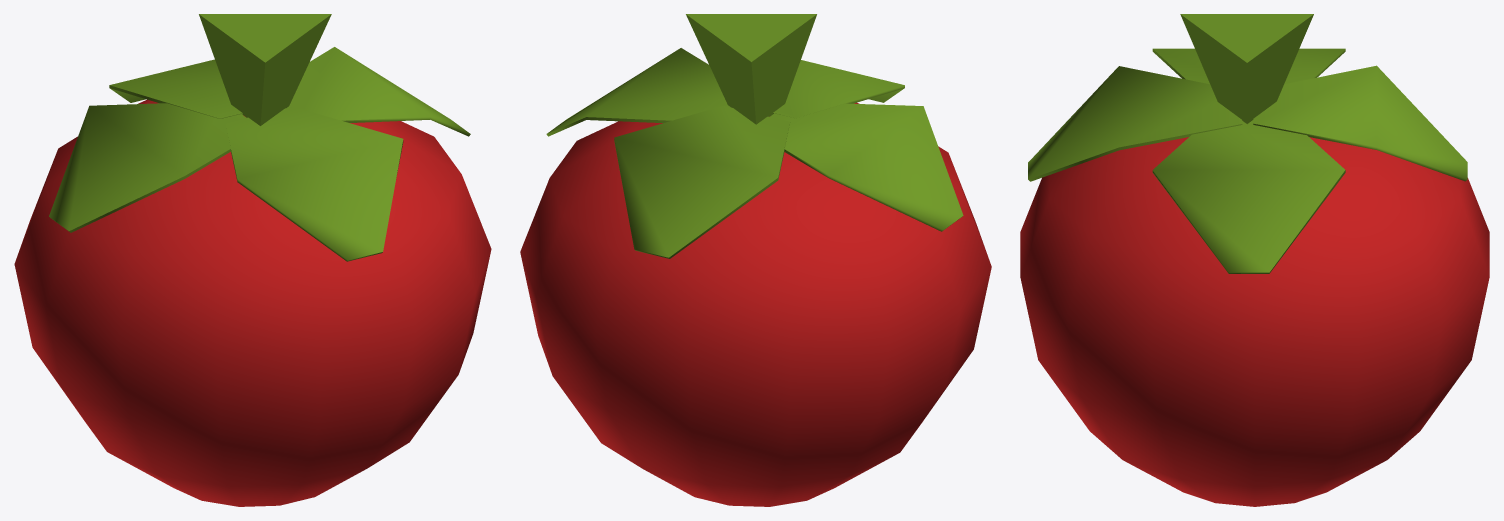
Rendered from tomate.fbx.
The picture shows the model from 3 angles, left to right: view 1: azimuth 30°, elevation 25°; view 2: azimuth 150°, elevation 25°; view 3: azimuth 270°, elevation 25°; orthographic projection.
Visible parts, largest first — view 1: tomate, staengel; view 2: tomate, staengel; view 3: tomate, staengel.
Boxes of the visible parts, x1,y1,x2,y2 form: tomate: [14, 99, 491, 506]; staengel: [49, 14, 470, 261]; tomate: [520, 102, 991, 506]; staengel: [546, 14, 963, 258]; tomate: [1020, 137, 1489, 506]; staengel: [1028, 14, 1467, 273].
Size of the model in its own units: 230 by 243 by 224.
